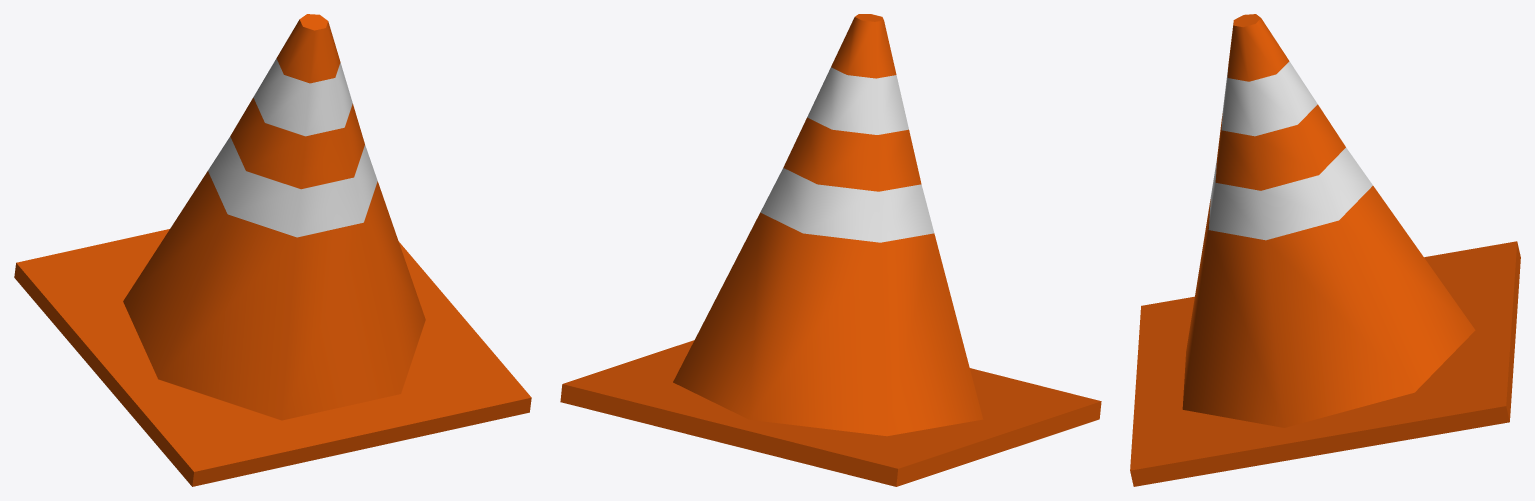
File: TrafficConeHat.gltf
3 views of the same model, side by side, from view 1: azimuth 30°, elevation 25°; view 2: azimuth 150°, elevation 25°; view 3: azimuth 270°, elevation 25° (orthographic). The views are drawn at different scales.
Visible parts, largest first — view 1: Plane.001; view 2: Plane.001; view 3: Plane.001.
Part boxes in pixels (x1=…): Plane.001: x1=14, y1=14, x2=531, y2=486; Plane.001: x1=560, y1=14, x2=1101, y2=486; Plane.001: x1=1130, y1=14, x2=1520, y2=486.
Size of the model in its own units: 0.3549 by 0.3876 by 0.3509.
Materials: 1 (1 with a texture image).
